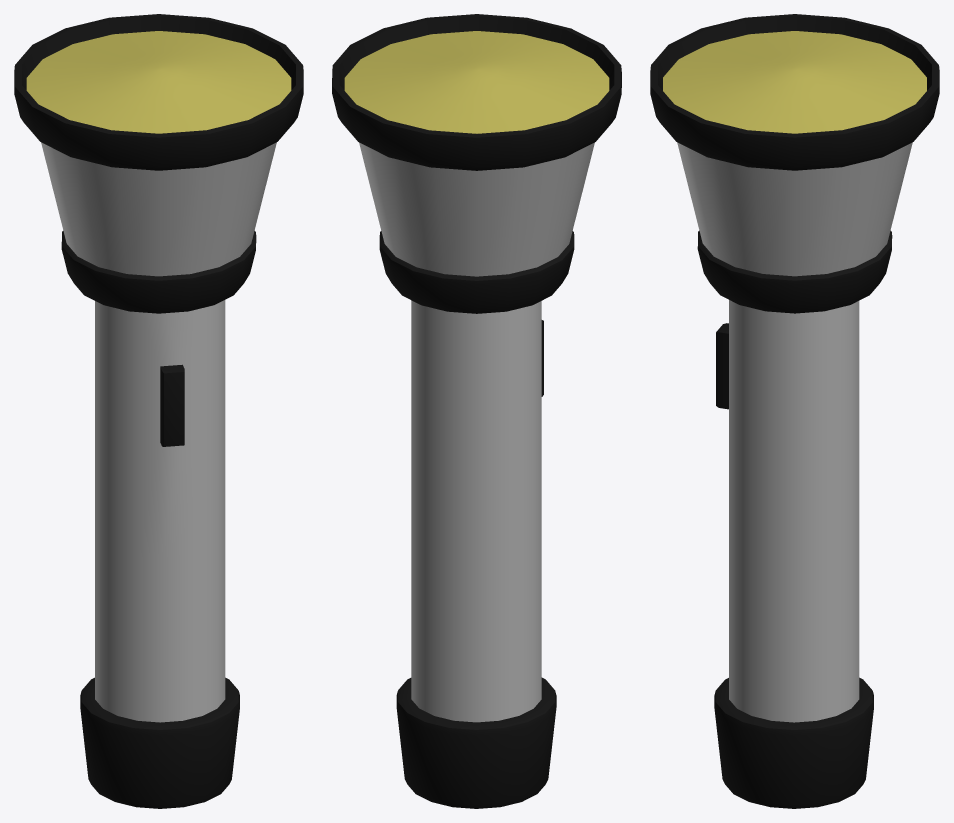
Rendered from Linterna.fbx.
3 renders of one model, left to right at view 1: azimuth 30°, elevation 25°; view 2: azimuth 150°, elevation 25°; view 3: azimuth 270°, elevation 25°, orthographic.
Visible parts, largest first — view 1: Linterna; view 2: Linterna; view 3: Linterna.
Part boxes in pixels (x1,y1,x2,y2): Linterna: [14, 14, 303, 808]; Linterna: [332, 14, 621, 808]; Linterna: [650, 14, 939, 808].
Size of the model in its own units: 15.44 by 41.27 by 15.21.
